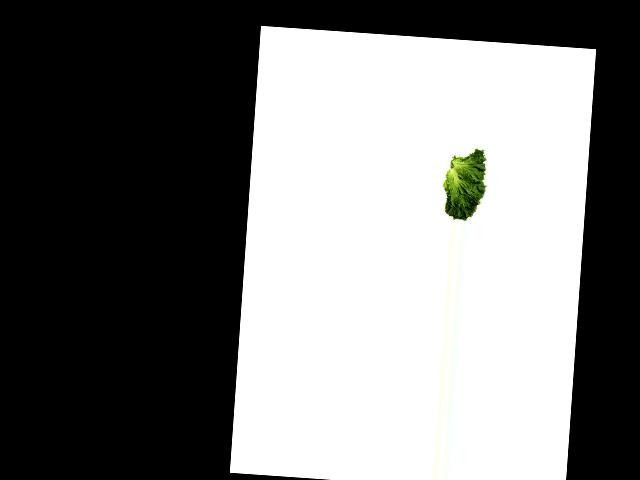lettuce: (438, 147, 493, 222)
